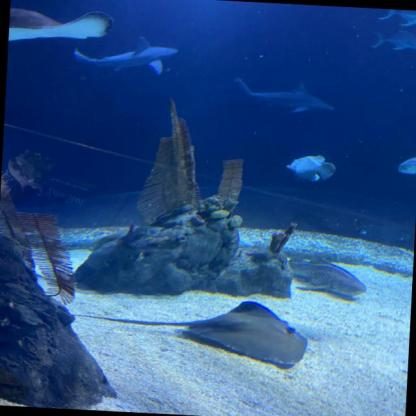fish: (285, 251, 369, 297), (286, 153, 337, 184), (370, 27, 416, 55), (378, 9, 416, 32), (398, 153, 415, 179)
shark: (71, 31, 180, 78), (228, 74, 336, 117)
stingray: (181, 298, 310, 366), (8, 7, 115, 48), (357, 223, 411, 242)
